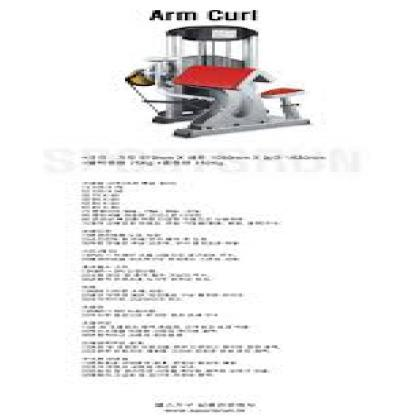arm curl machine: (124, 25, 310, 139)
